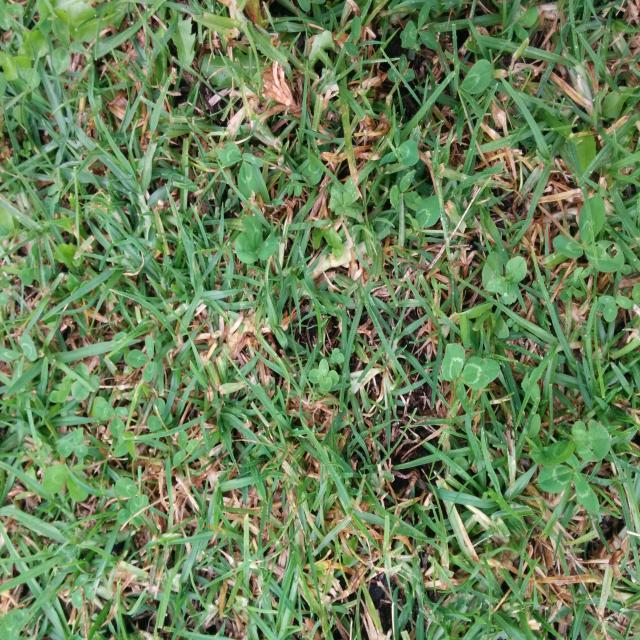Four Leaf Clover: (308, 359, 339, 391)
